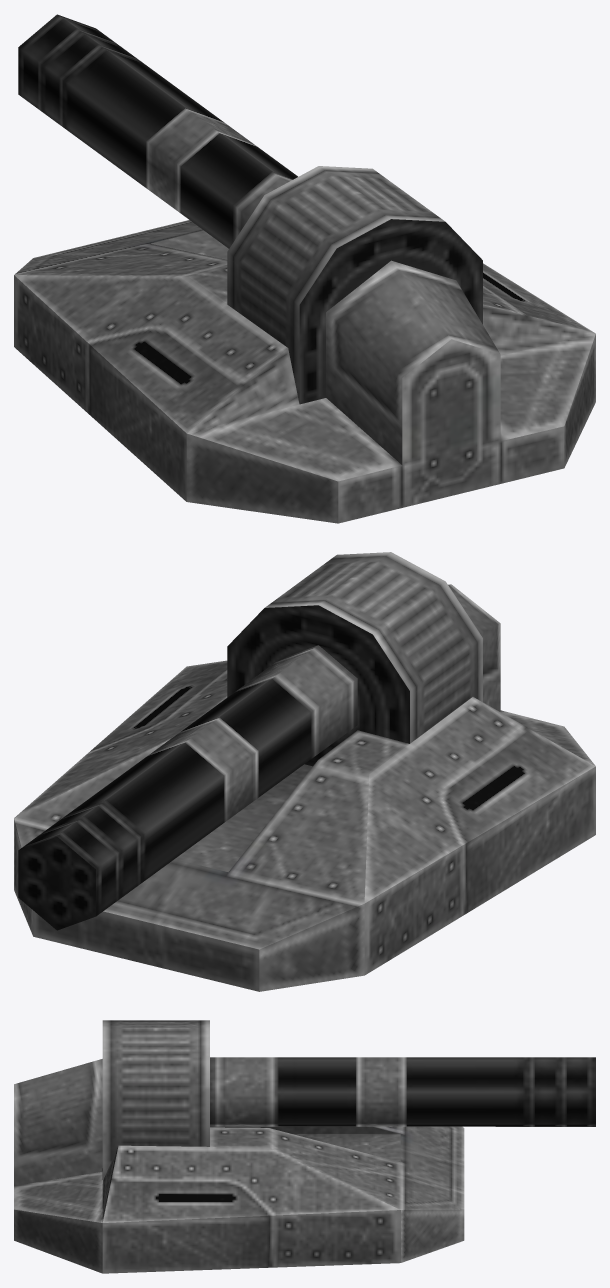
File: vulcan.glb
3 renders of one model, top to bottom at view 1: azimuth 30°, elevation 25°; view 2: azimuth 150°, elevation 25°; view 3: azimuth 270°, elevation 25°, orthographic. The views are drawn at different scales.
Visible parts, largest first — view 1: turret, barrel; view 2: turret, barrel; view 3: turret, barrel.
Boxes of the visible parts, x1=… form: turret: x1=14, y1=166, x2=595, y2=523; barrel: x1=18, y1=14, x2=297, y2=248; turret: x1=14, y1=552, x2=595, y2=991; barrel: x1=18, y1=645, x2=357, y2=930; turret: x1=14, y1=1020, x2=464, y2=1273; barrel: x1=210, y1=1057, x2=595, y2=1126.
Size of the model in its own units: 215 by 117 by 358.
Materials: 1 (1 with a texture image).
